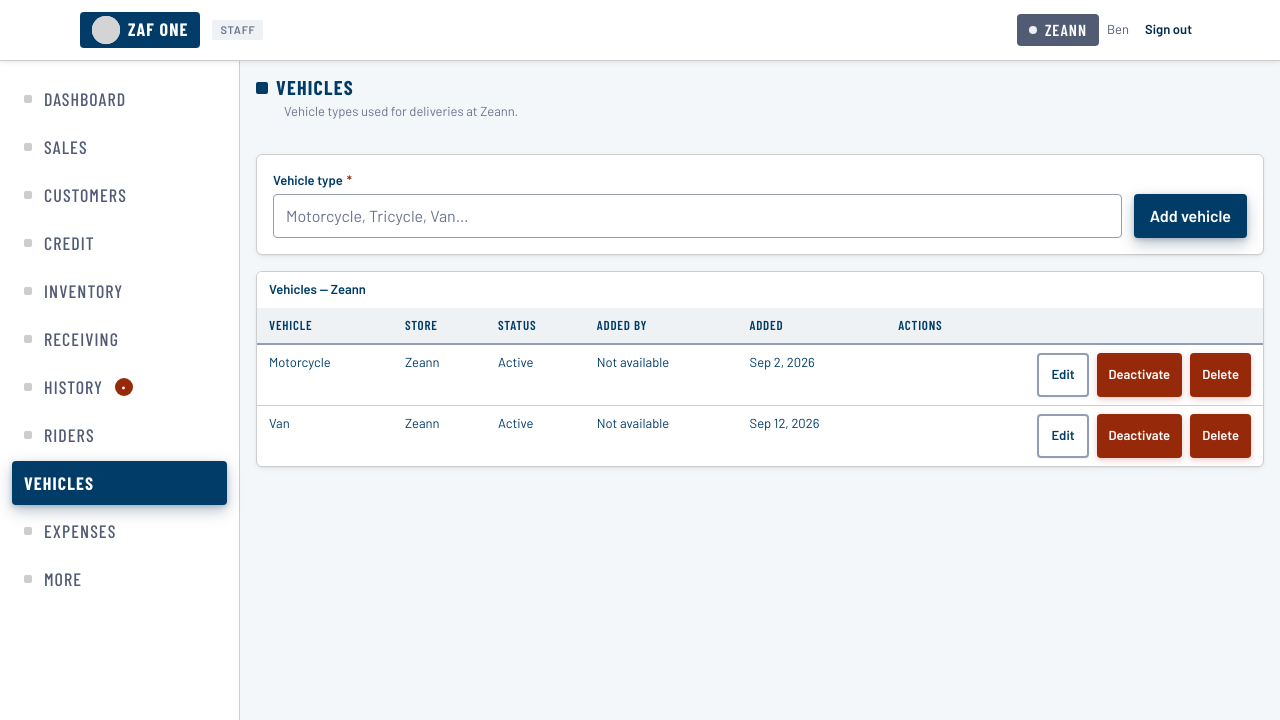
Test: VehiclesPage › deletes a vehicle type that is not referenced by records
Expected: the text "Van" is shown, [257,406,393,466]
Step 1. Type "Pedicab" into the field labelled "Vehicle type*" → point(697, 216), box [273,194,1122,238]
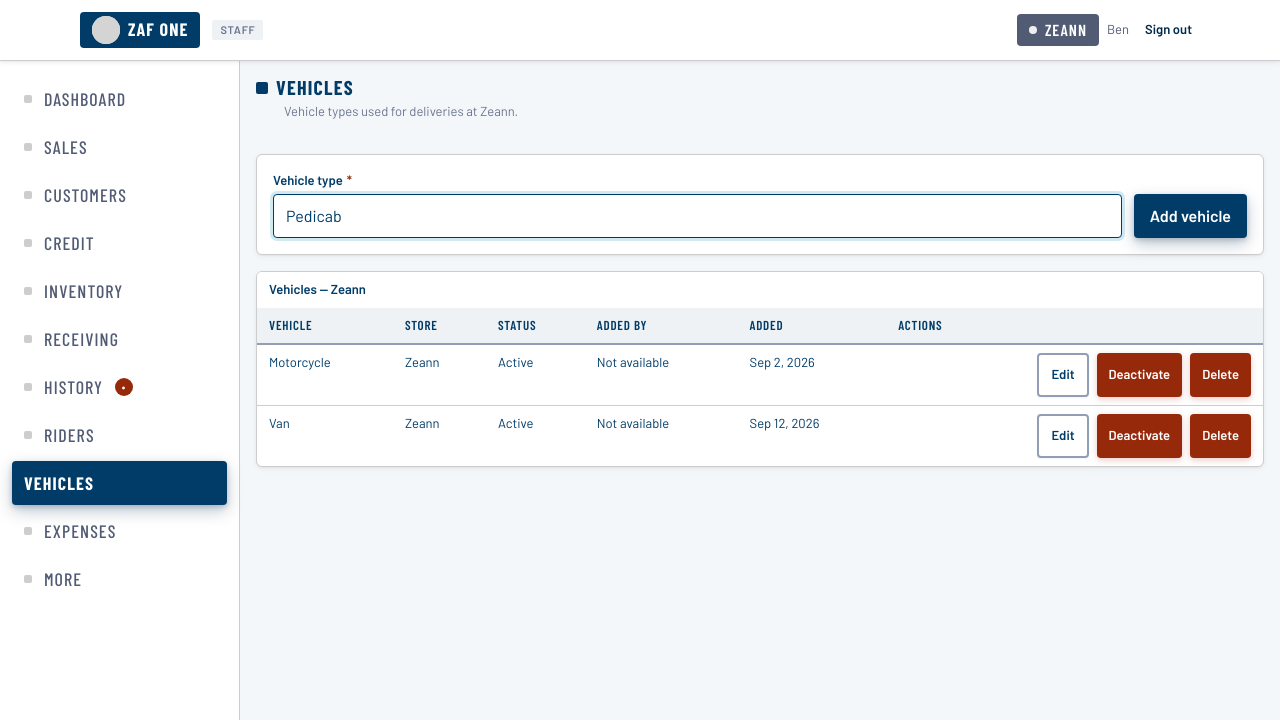
Step 2. Click the button "Add vehicle" → point(1190, 216), box [1134,194,1247,238]
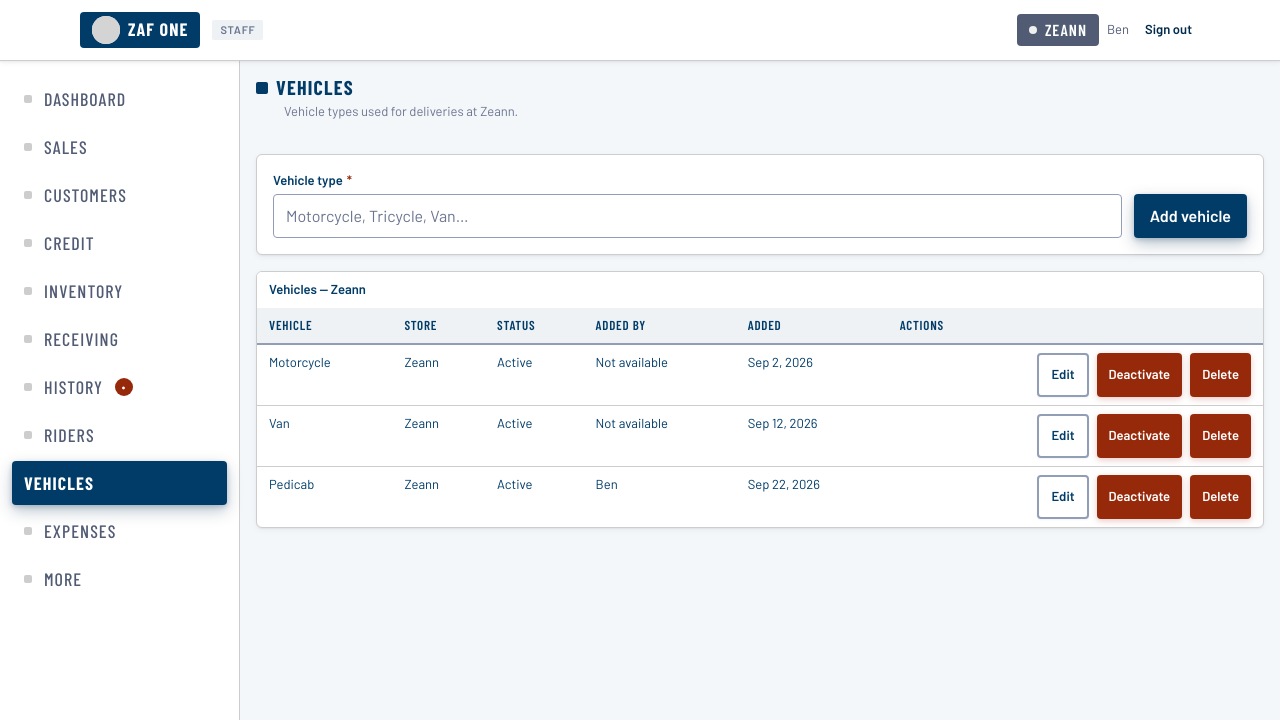
Step 3. Click the button "Delete" in the row of "Pedicab" → point(1221, 497), box [1190,475,1251,519]
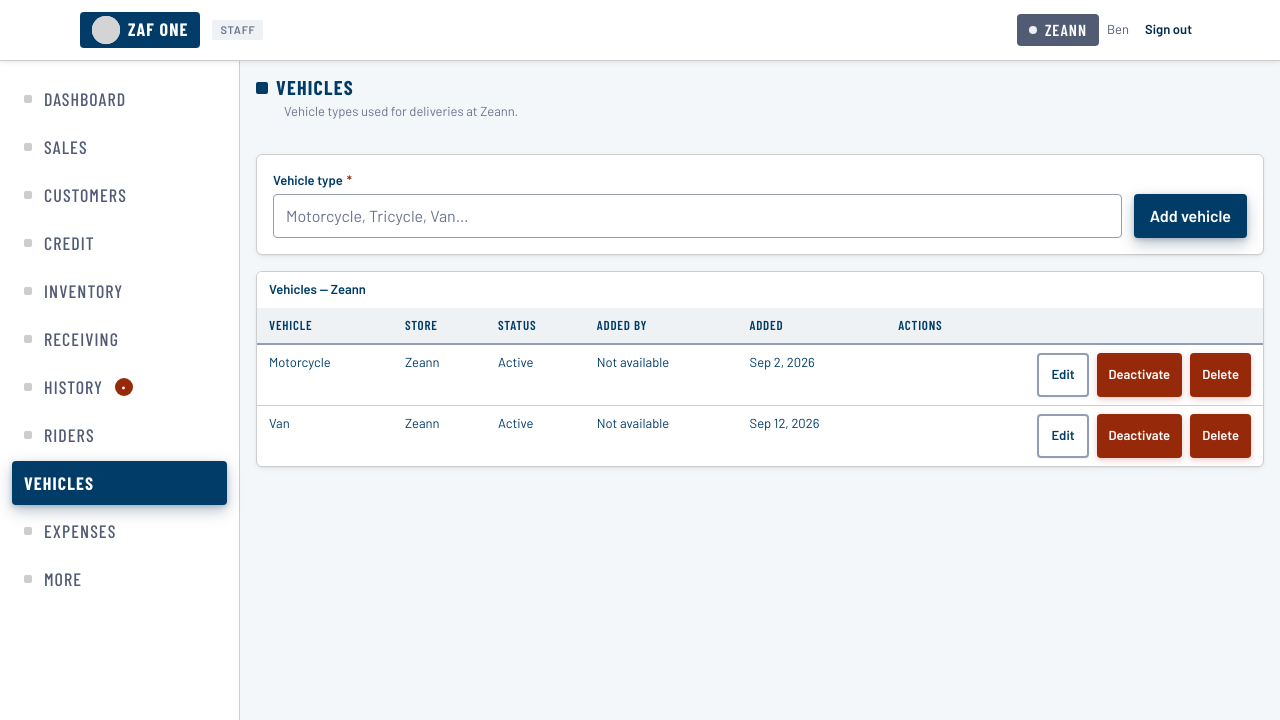
Result: the text "Pedicab" is gone
